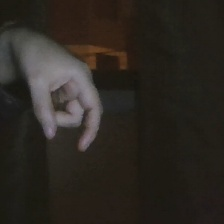Q: (3, 12, 123, 168)
